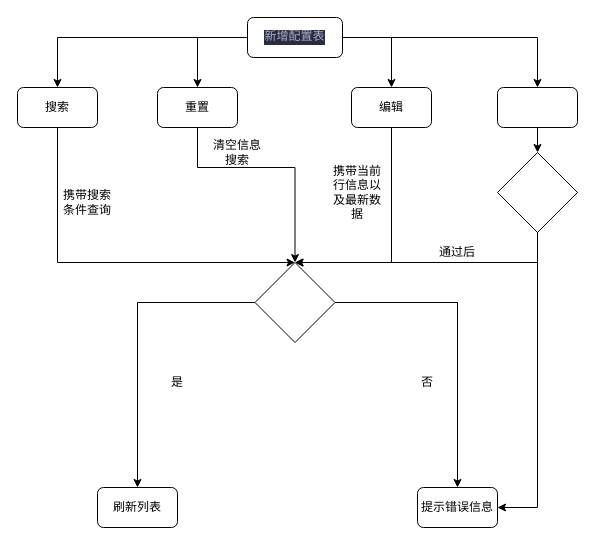
This 595x545 diagram has some shape labels left out. Here are the shapes that lost their labels. From the top down, the box of each, then its label:
(496, 86, 578, 128): 导入
(496, 152, 578, 232): 验证文件格式与大小
(254, 262, 335, 342): 调用接口 是否成功
